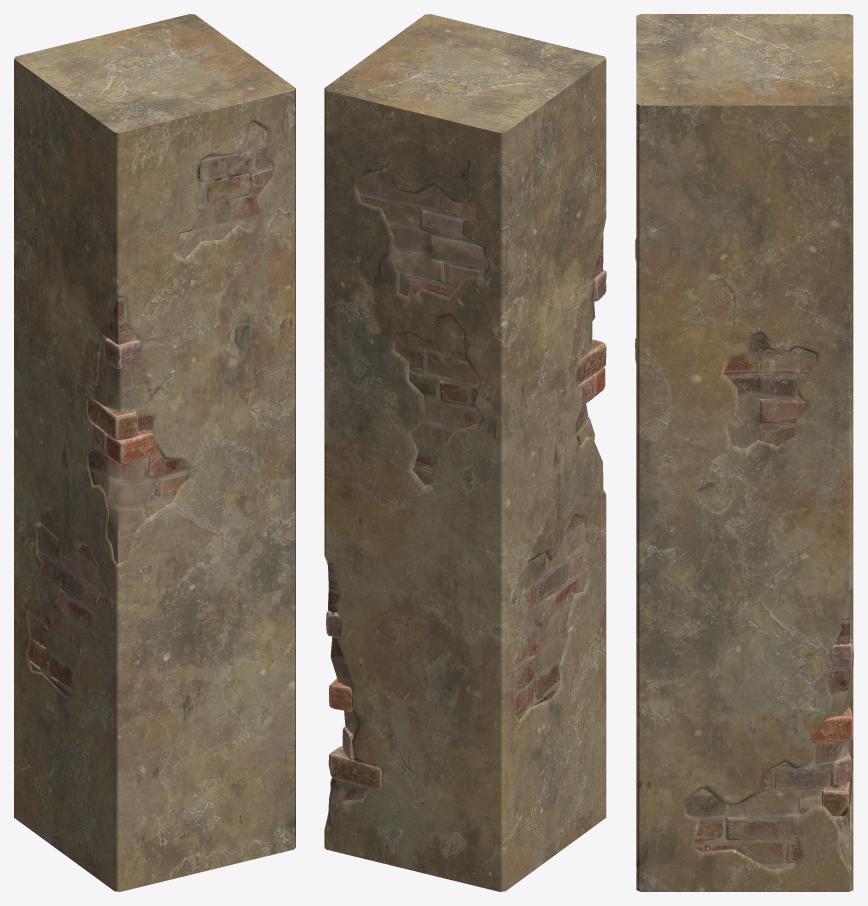
The picture shows the model from 3 angles, left to right: view 1: azimuth 30°, elevation 25°; view 2: azimuth 150°, elevation 25°; view 3: azimuth 270°, elevation 25°; orthographic projection. The views are drawn at different scales.
Parts seen in each view (by area): view 1: SM_Human_Ruins_Pllar_02_LOD0; view 2: SM_Human_Ruins_Pllar_02_LOD0; view 3: SM_Human_Ruins_Pllar_02_LOD0.
Part boxes in pixels (x1=…): SM_Human_Ruins_Pllar_02_LOD0: x1=14, y1=14, x2=295, y2=891; SM_Human_Ruins_Pllar_02_LOD0: x1=324, y1=14, x2=606, y2=891; SM_Human_Ruins_Pllar_02_LOD0: x1=635, y1=14, x2=853, y2=891.
Size of the model in its own units: 1.01 by 4 by 1.01.
3 materials, 3 textured.
